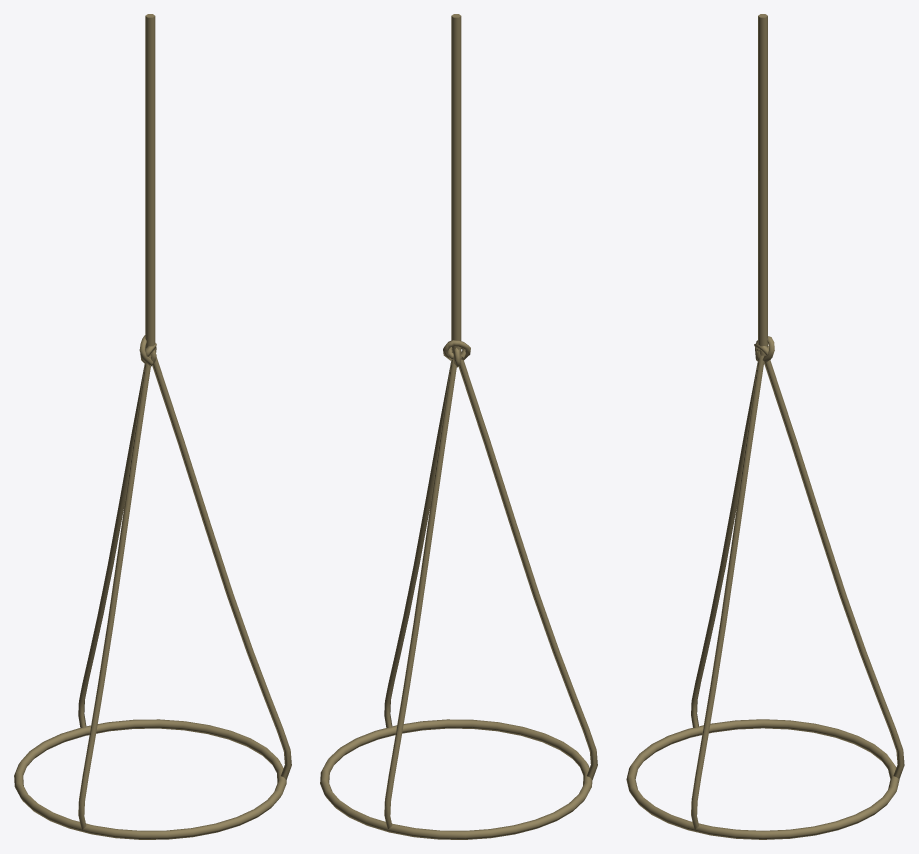
File: PlantPotRope.fbx
3 renders of one model, left to right at view 1: azimuth 30°, elevation 25°; view 2: azimuth 150°, elevation 25°; view 3: azimuth 270°, elevation 25°, orthographic.
Visible parts, largest first — view 1: NurbsPath; view 2: NurbsPath; view 3: NurbsPath.
Part boxes in pixels (x1=…): NurbsPath: x1=14, y1=14, x2=291, y2=839; NurbsPath: x1=320, y1=14, x2=597, y2=839; NurbsPath: x1=626, y1=14, x2=904, y2=839.
Size of the model in its own units: 1.47 by 4.54 by 1.49.
